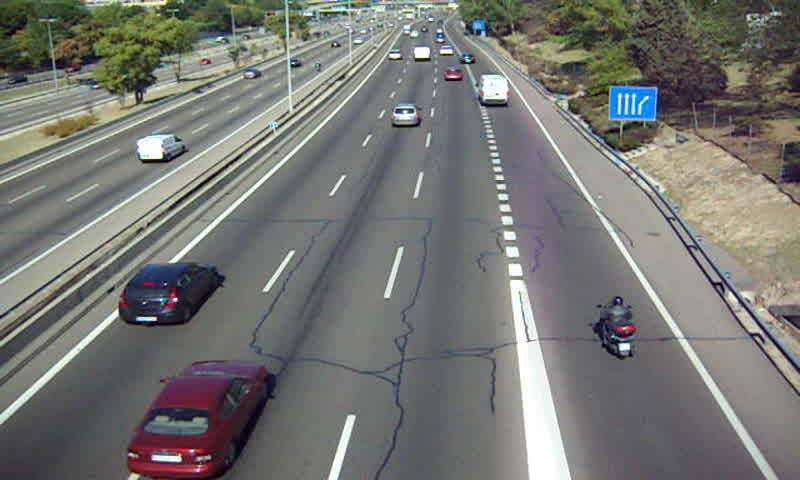car: (124, 362, 269, 474), (119, 261, 215, 324), (388, 103, 420, 130), (441, 66, 463, 82), (459, 51, 477, 65), (388, 49, 402, 62), (439, 44, 454, 56)
motorcycle: (596, 294, 635, 360)
van: (476, 74, 509, 105), (412, 46, 429, 61)
